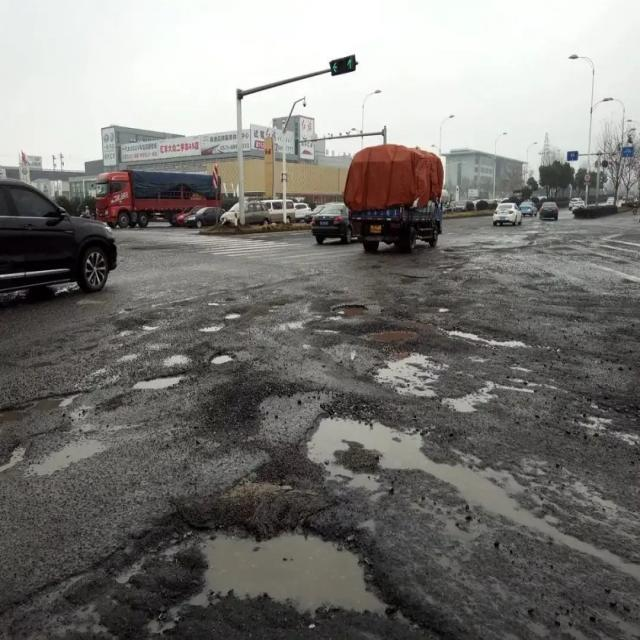Pothole: (307, 406, 639, 574), (175, 525, 401, 625), (25, 432, 108, 477), (381, 354, 440, 400), (442, 321, 525, 352), (9, 392, 79, 420), (129, 368, 189, 391), (358, 328, 419, 347), (332, 300, 370, 319), (209, 350, 246, 368), (199, 317, 221, 335), (223, 308, 242, 323)
